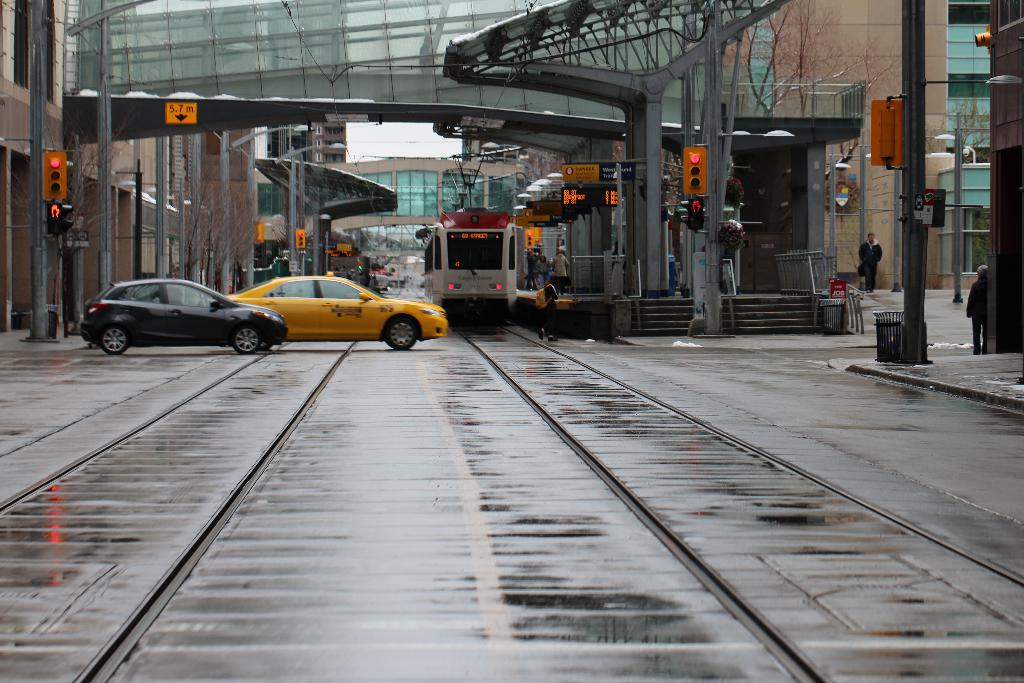mobil: (253, 267, 453, 359), (87, 275, 287, 360)
